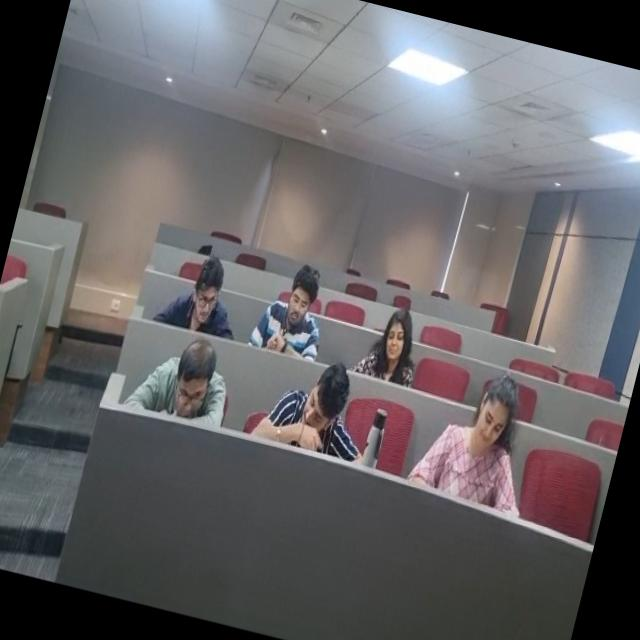cheating: (259, 359, 396, 476), (247, 235, 349, 362), (142, 335, 256, 447), (158, 243, 256, 346)
non-cheating: (439, 344, 548, 484), (354, 300, 436, 394)
